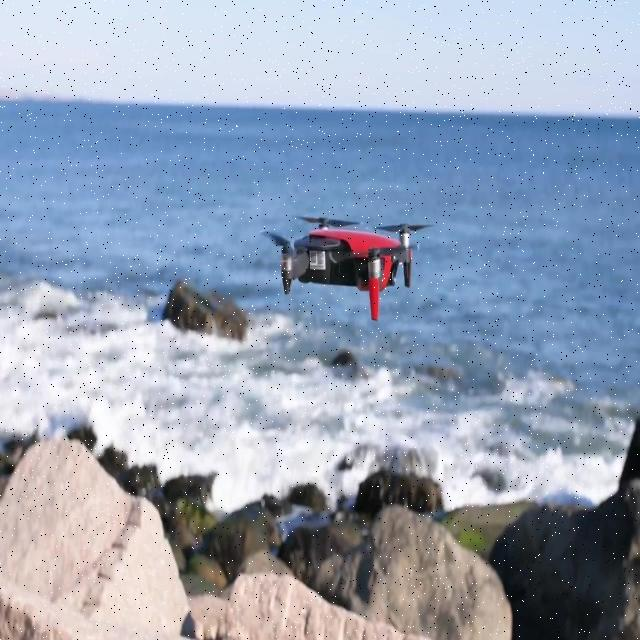UAV: (261, 215, 433, 322)
